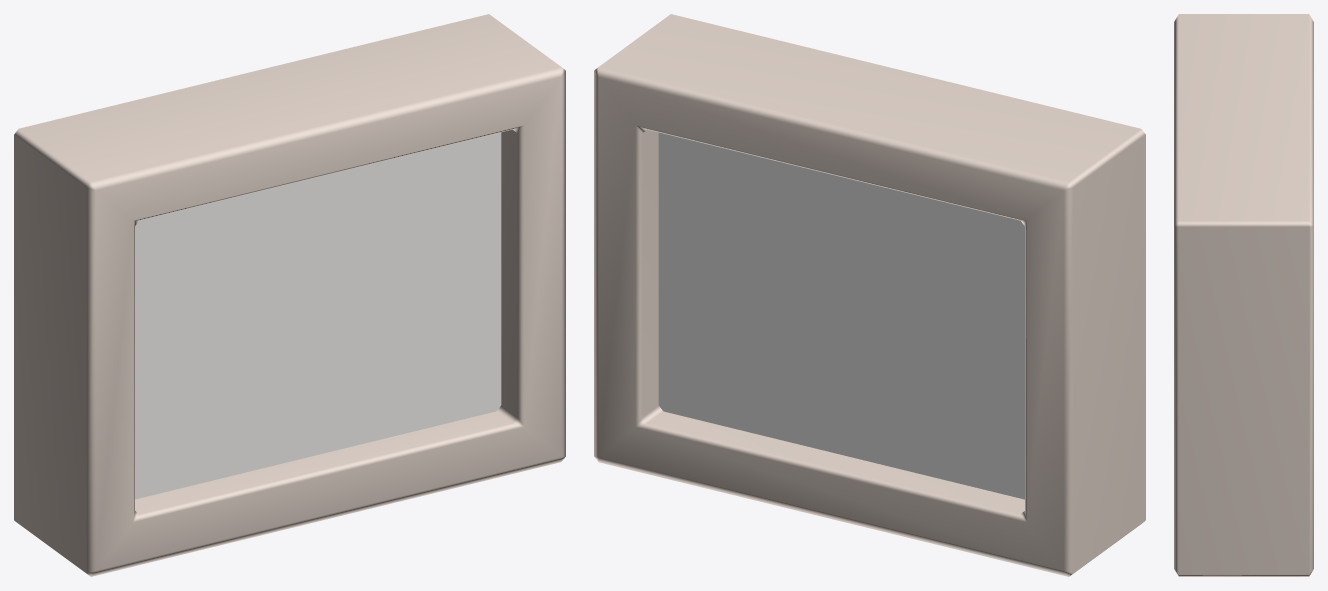
The model's file is Window_3.glb.
The picture shows the model from 3 angles, left to right: view 1: azimuth 30°, elevation 25°; view 2: azimuth 150°, elevation 25°; view 3: azimuth 270°, elevation 25°; orthographic projection. The views are drawn at different scales.
Parts seen in each view (by area): view 1: Window_3; view 2: Window_3; view 3: Window_3.
Boxes of the visible parts, bbox=[...] form: Window_3: bbox=[14, 14, 565, 576]; Window_3: bbox=[594, 14, 1145, 576]; Window_3: bbox=[1174, 14, 1313, 576].
Bounding box in the file's own units: 2 × 1.57 × 0.5595.
2 materials, 2 textured.
